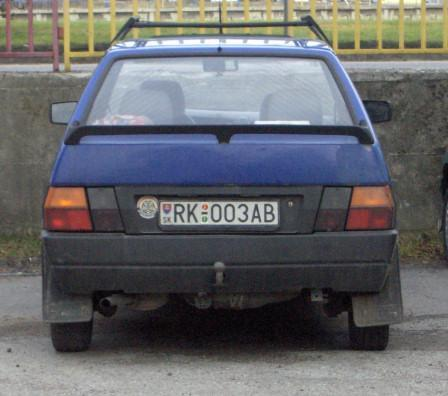placa de veiculo: (150, 186, 309, 241)
